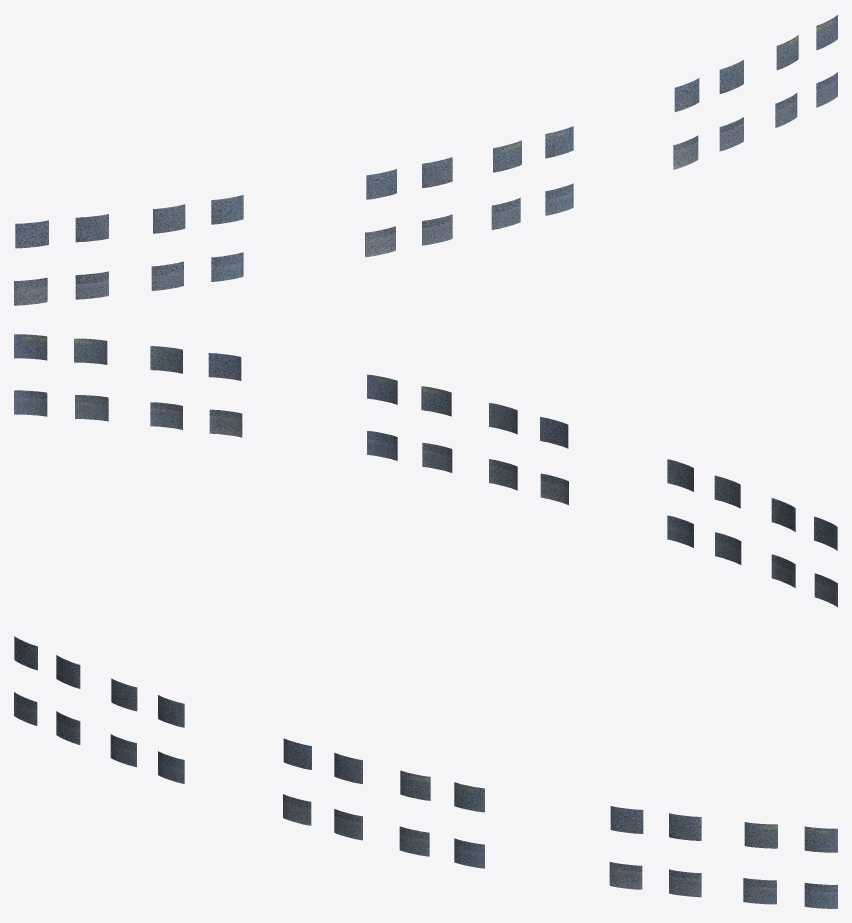
File: pvm_screen.glb
3 renders of one model, top to bottom at view 1: azimuth 30°, elevation 25°; view 2: azimuth 150°, elevation 25°; view 3: azimuth 330°, elevation 25°, orthographic. The views are drawn at different scales.
Visible parts, largest first — view 1: monitor.048; view 2: monitor.048; view 3: monitor.048.
Boxes of the visible parts, box(x1,y1,x2,y2) form: monitor.048: box(14, 15, 837, 305); monitor.048: box(14, 334, 837, 607); monitor.048: box(14, 636, 837, 908).
Bounding box in the file's own units: 14.61 × 1.37 × 1.56.
1 material, 1 textured.
